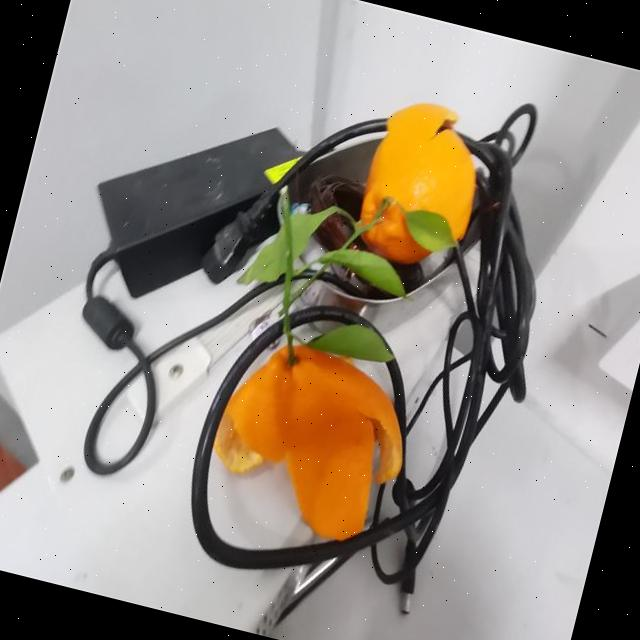orange-peel: (197, 326, 426, 552), (346, 90, 496, 278)
